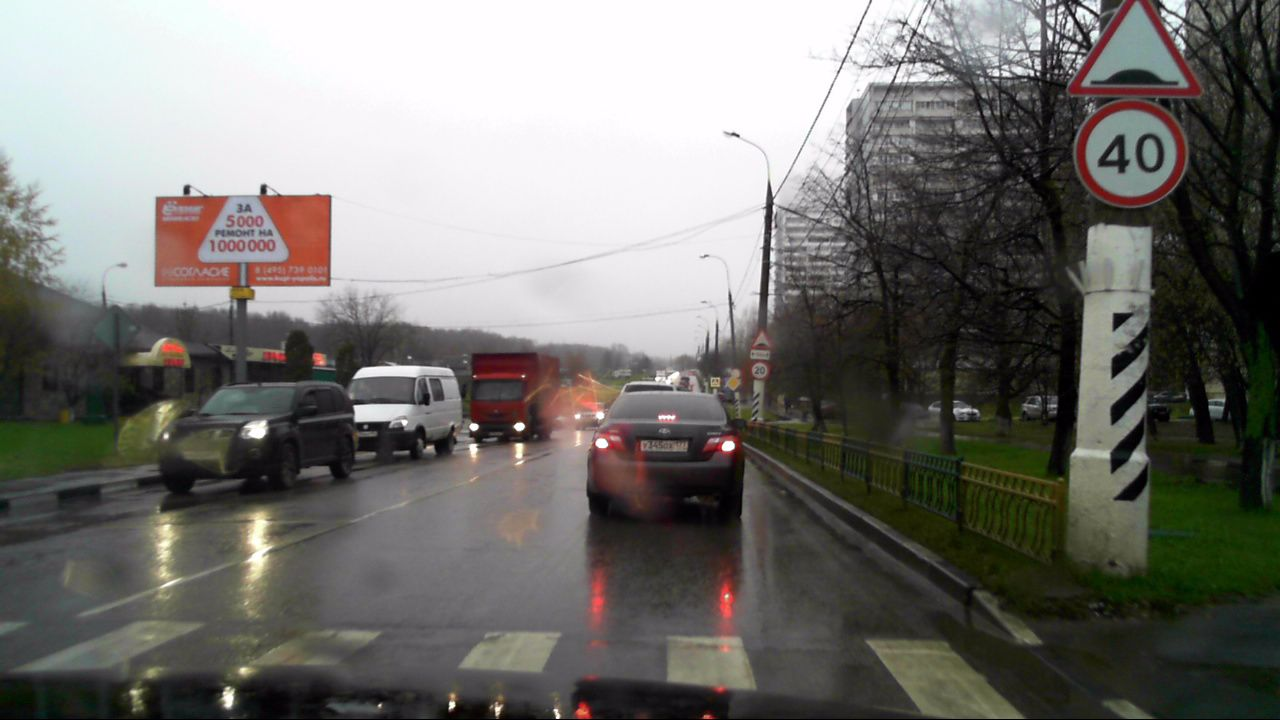speed_warning_40: (1074, 99, 1187, 208)
